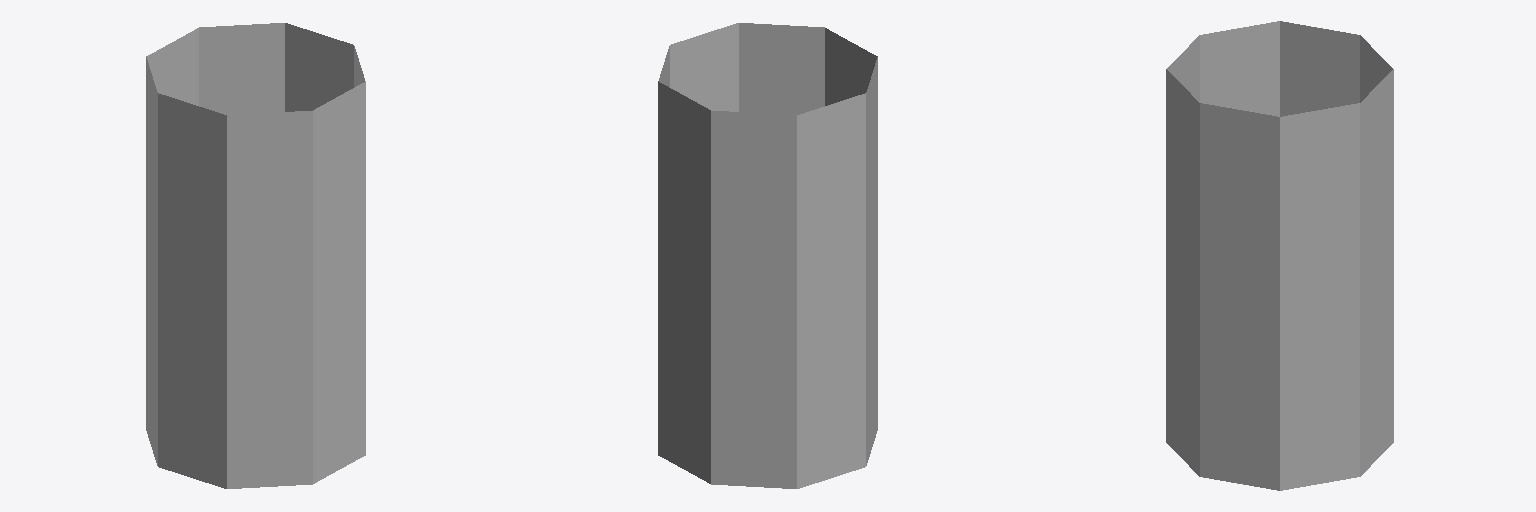
File: cylinderbridgepillar.obj
The picture shows the model from 3 angles: view 1: azimuth 30°, elevation 25°; view 2: azimuth 150°, elevation 25°; view 3: azimuth 270°, elevation 25°; orthographic projection.
Parts seen in each view (by area): view 1: Cylinder; view 2: Cylinder; view 3: Cylinder.
Part boxes in pixels (bbox=[...]): Cylinder: bbox=[146, 23, 365, 488]; Cylinder: bbox=[658, 23, 877, 488]; Cylinder: bbox=[1166, 21, 1393, 490].
Bounding box in the file's own units: 0.5984 × 1.09 × 0.5984.